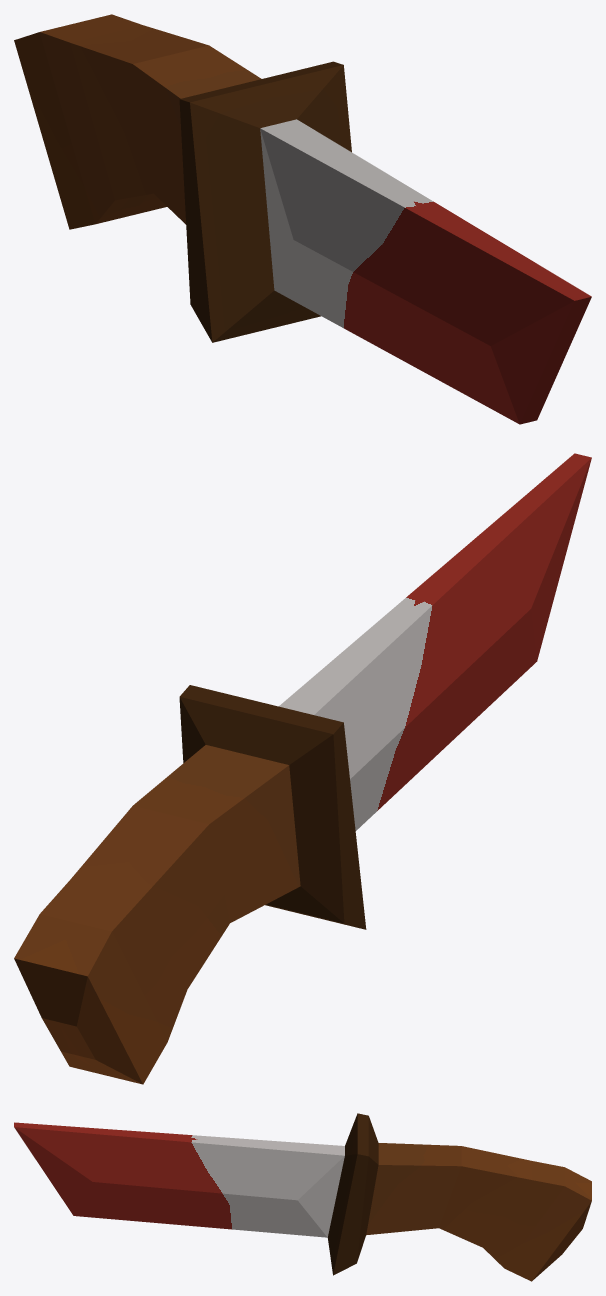
The model's file is Knife.fbx.
3 views of the same model, one above another, from view 1: azimuth 30°, elevation 25°; view 2: azimuth 150°, elevation 25°; view 3: azimuth 270°, elevation 25° (orthographic). The views are drawn at different scales.
Parts seen in each view (by area): view 1: Knife; view 2: Knife; view 3: Knife.
Part boxes in pixels (x1=…): Knife: x1=14, y1=14, x2=591, y2=424; Knife: x1=14, y1=453, x2=591, y2=1084; Knife: x1=14, y1=1113, x2=591, y2=1281.
Bounding box in the file's own units: 15.52 × 26.11 × 92.97.
